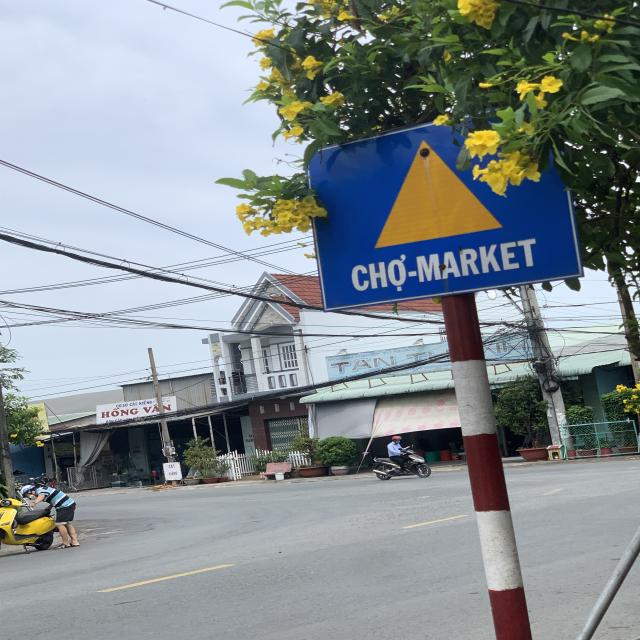Cho_Quay_Xe: (302, 105, 582, 314)
